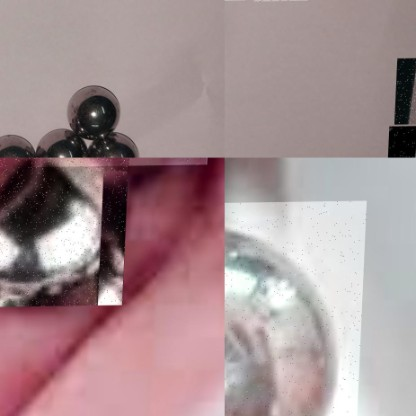ironball: (224, 201, 367, 415), (0, 157, 132, 307), (63, 83, 123, 135), (85, 125, 143, 160), (34, 124, 90, 155), (395, 57, 415, 125), (0, 126, 36, 156)
